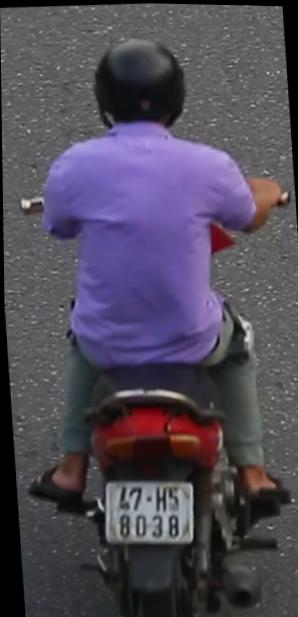LP: (97, 473, 197, 548)
helmet: (93, 29, 193, 149)
